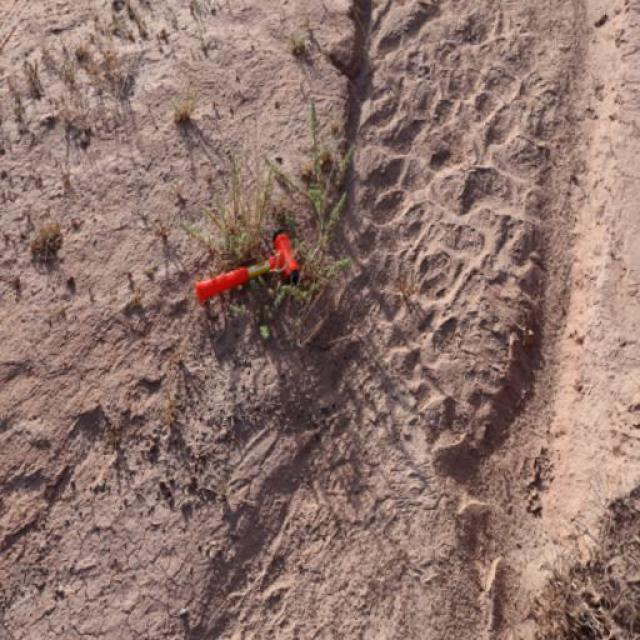mallet: (192, 230, 302, 302)
